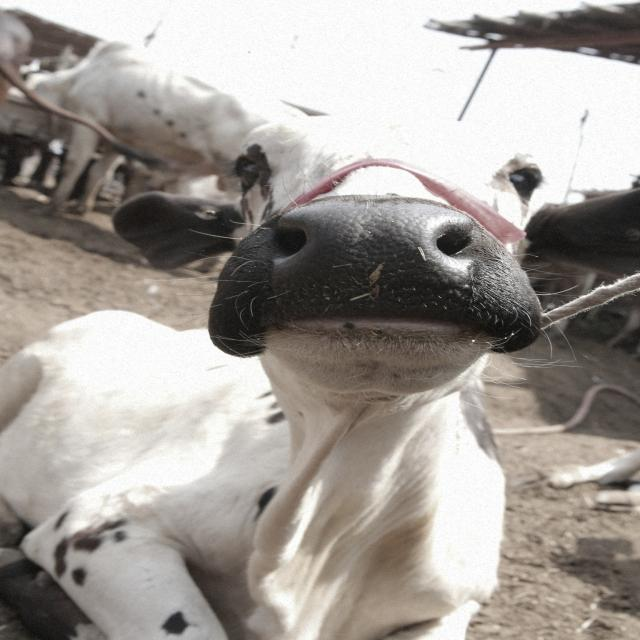muzzles: (229, 194, 511, 346)
